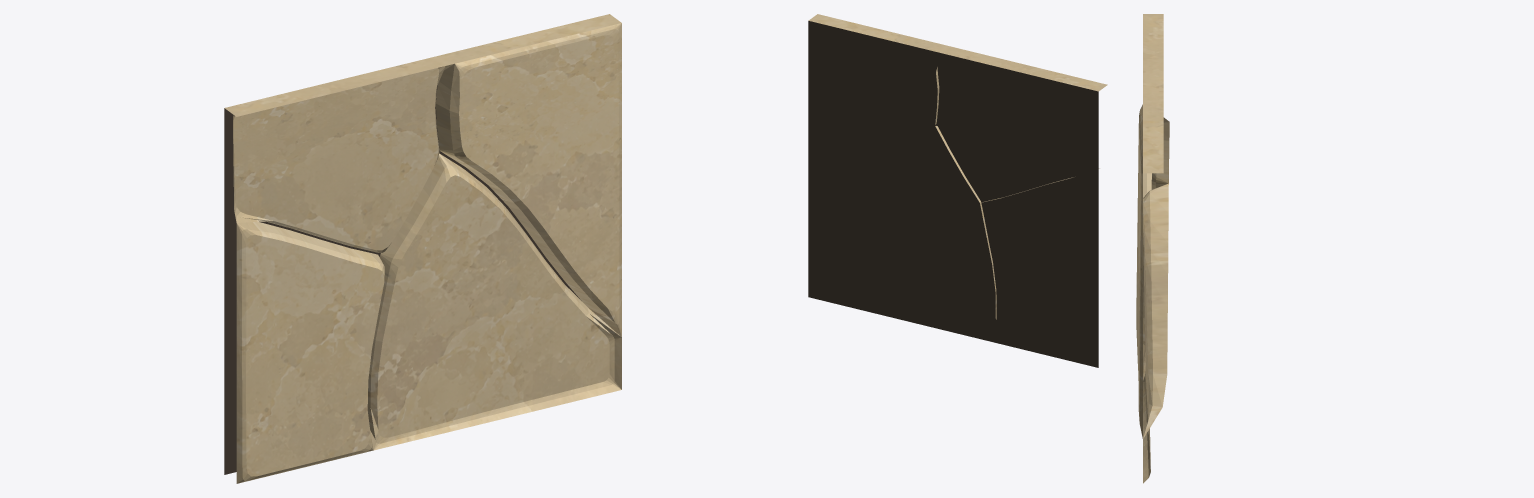
The model's file is ground_edge_07.glb.
3 views of the same model, side by side, from view 1: azimuth 30°, elevation 25°; view 2: azimuth 150°, elevation 25°; view 3: azimuth 270°, elevation 25° (orthographic). The views are drawn at different scales.
Visible parts, largest first — view 1: GroundEdge07_Body; view 2: GroundEdge07_Body; view 3: GroundEdge07_Body.
Part boxes in pixels (<box>): GroundEdge07_Body: <box>224,14,621,483</box>; GroundEdge07_Body: <box>808,14,1107,367</box>; GroundEdge07_Body: <box>1136,14,1169,483</box>.
Size of the model in its own units: 1 by 0.91 by 1.02.
6 materials, 5 textured.
